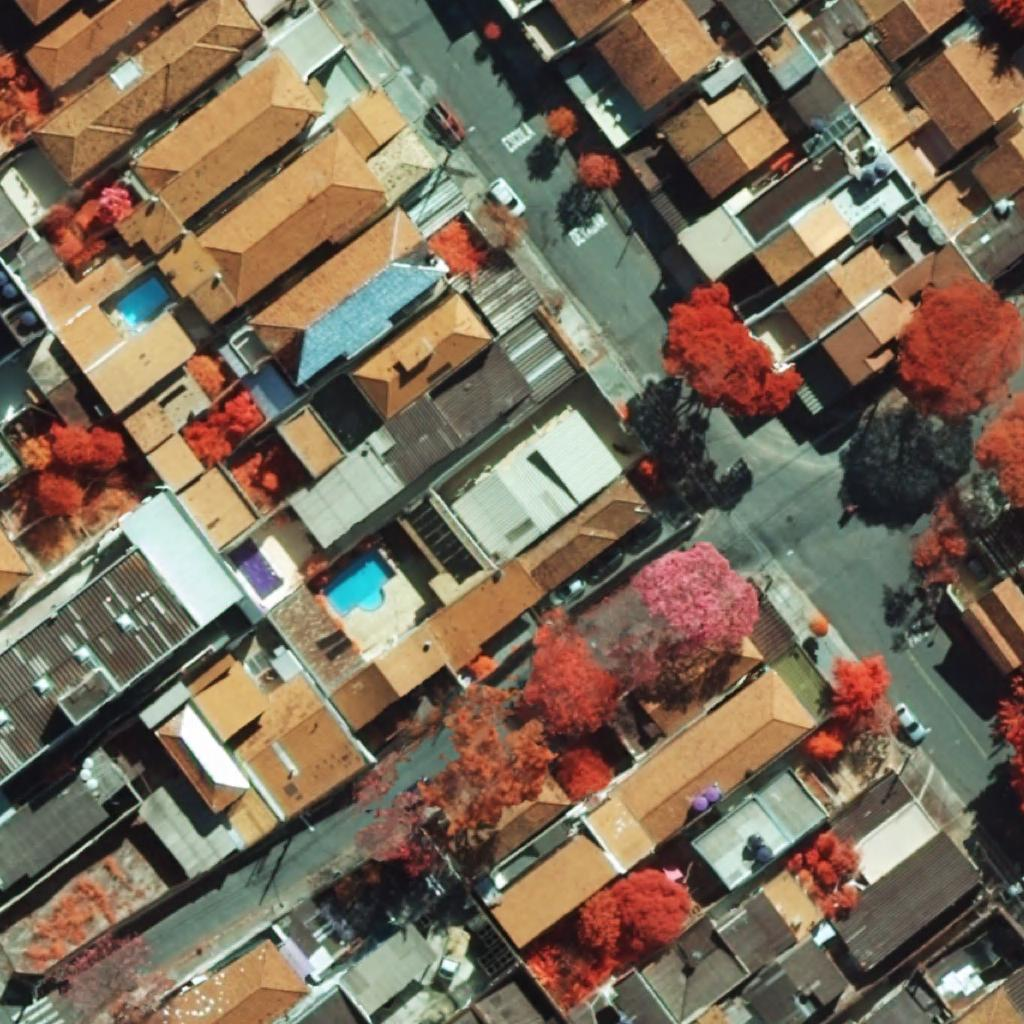pool: (323, 547, 395, 617), (228, 537, 283, 599), (114, 275, 171, 328)
